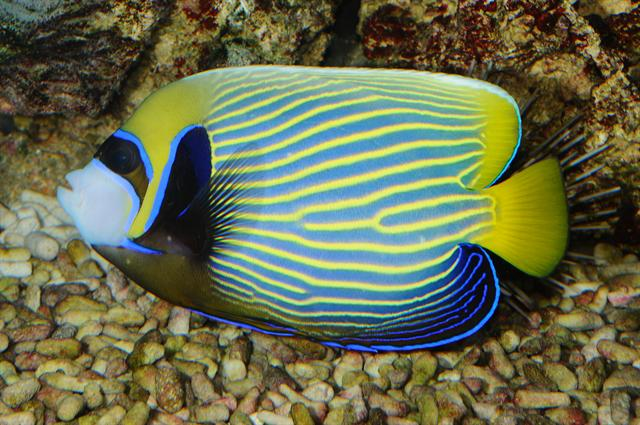Pomacanthus_imperator: (37, 47, 584, 362)
